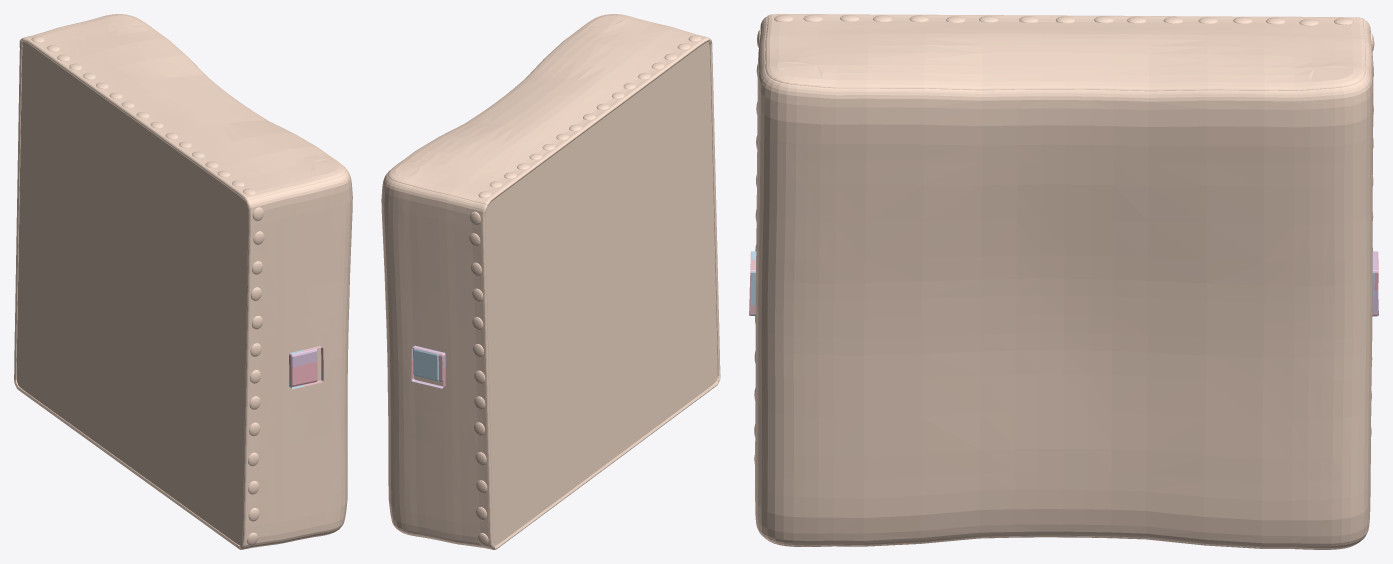
The model's file is view_input_colored.glb.
3 views of the same model, side by side, from view 1: azimuth 30°, elevation 25°; view 2: azimuth 150°, elevation 25°; view 3: azimuth 270°, elevation 25° (orthographic). The views are drawn at different scales.
Parts seen in each view (by area): view 1: world; view 2: world; view 3: world.
Part boxes in pixels (x1=…): world: x1=14, y1=14, x2=352, y2=549; world: x1=381, y1=14, x2=720, y2=549; world: x1=749, y1=14, x2=1378, y2=549.
Size of the model in its own units: 0.1838 by 0.5164 by 0.6157.
